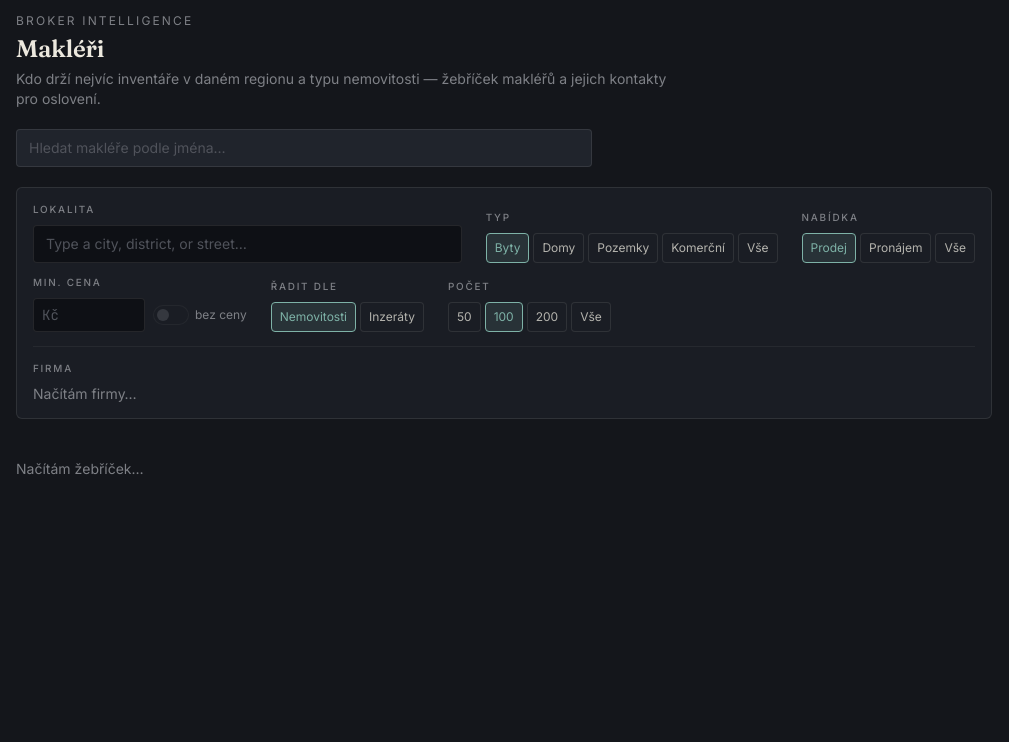
Test: <Brokers> subtype filter › states the portal-coverage caveat only while a subtype is selected
Click the button "Komerční" at (698, 248), box [662,233,734,263]
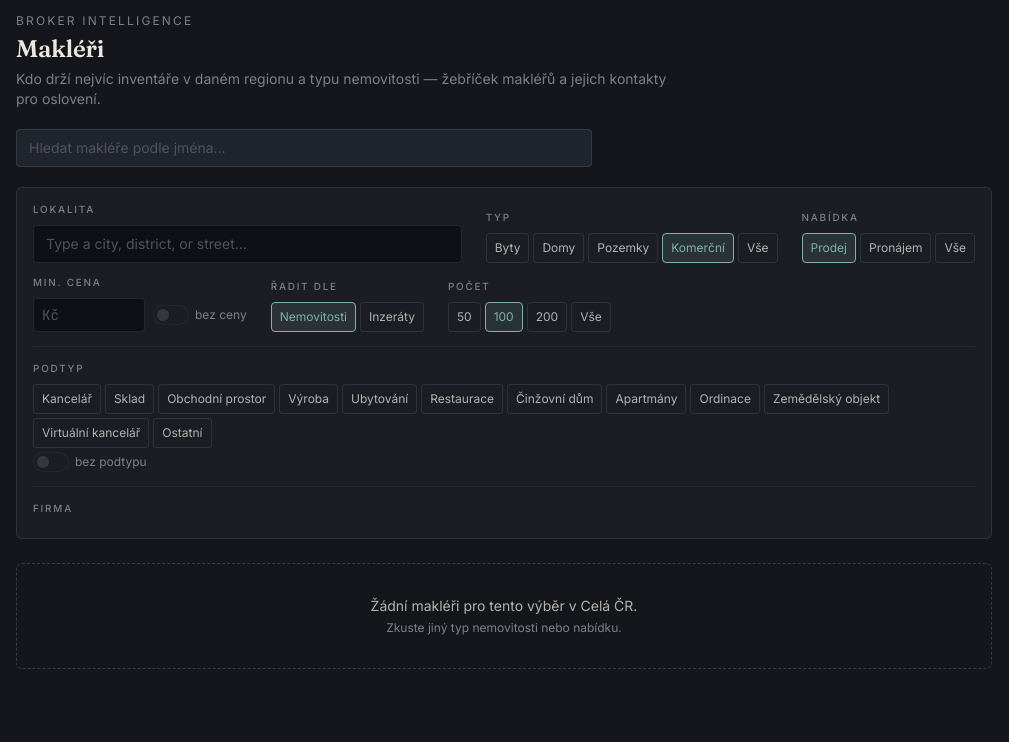
Expected: the text "Podtyp uvádí jen některé portály" is not shown
Result: the text "Podtyp" is shown at [33,362,84,374]
Click the button "Sklad" at (130, 399), box [105,384,154,414]
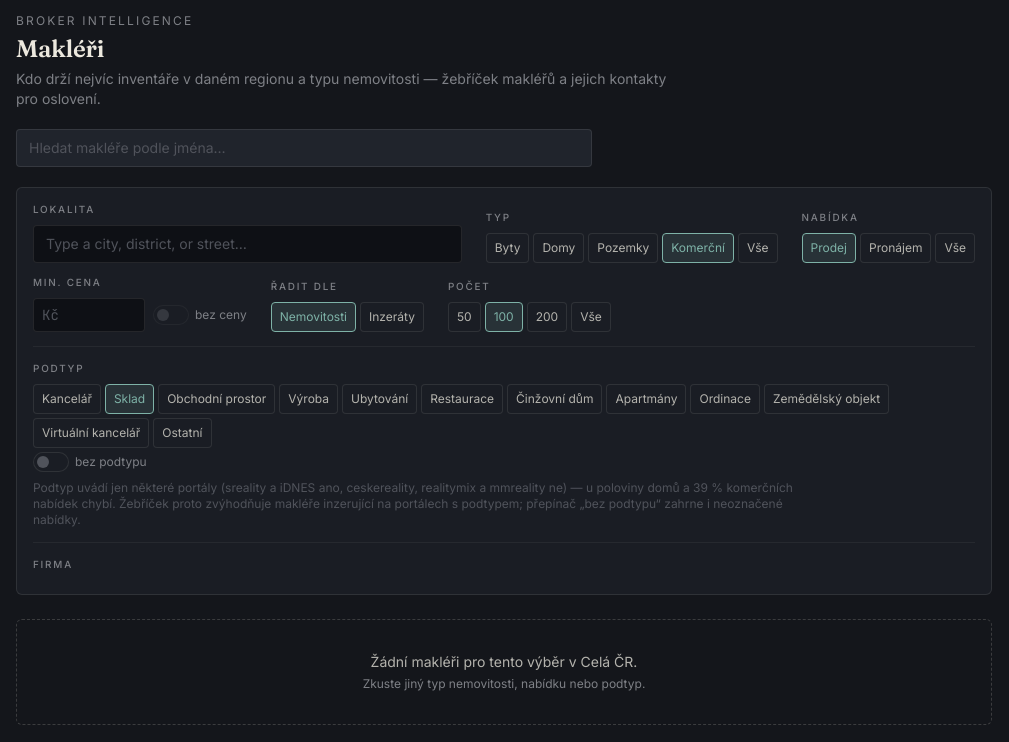
Result: the text "Podtyp uvádí jen některé portály" is shown at [33,480,793,527]
